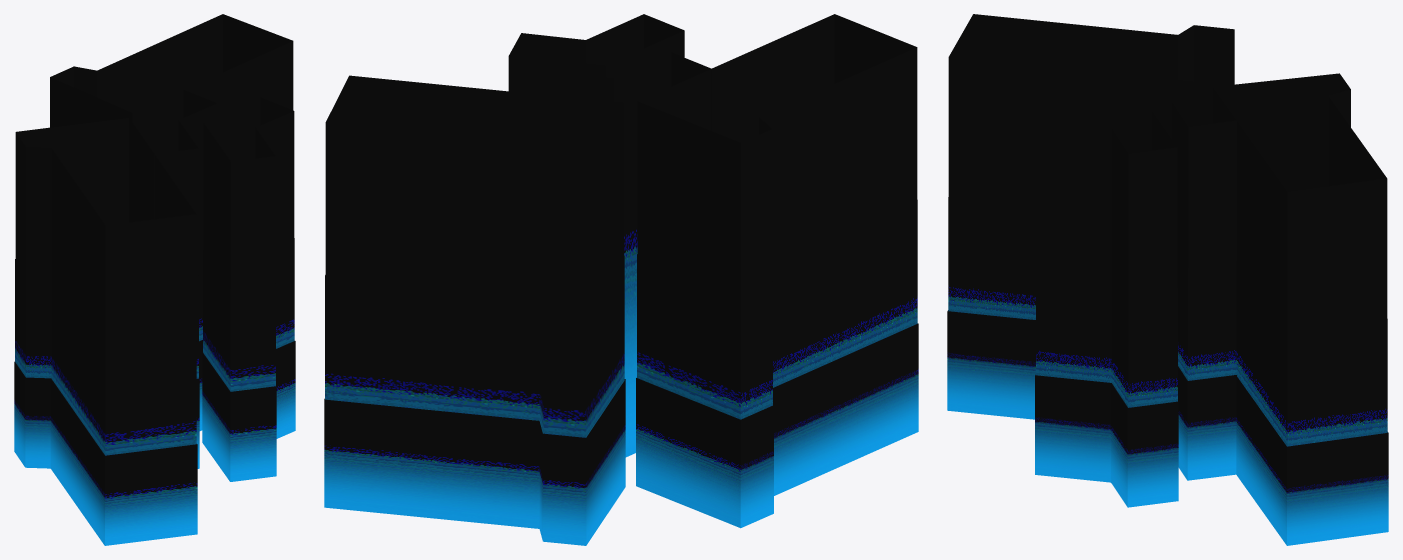
Rendered from highlight_tmone2.gltf.
3 renders of one model, left to right at view 1: azimuth 30°, elevation 25°; view 2: azimuth 150°, elevation 25°; view 3: azimuth 270°, elevation 25°, orthographic. The views are drawn at different scales.
Visible parts, largest first — view 1: glow_klcc_geo; view 2: glow_klcc_geo; view 3: glow_klcc_geo.
Part boxes in pixels (<box>): glow_klcc_geo: <box>14,14,295,545</box>; glow_klcc_geo: <box>324,14,918,545</box>; glow_klcc_geo: <box>947,14,1388,545</box>.
Bounding box in the file's own units: 8.02 × 7.38 × 8.35.
1 material, 1 textured.
